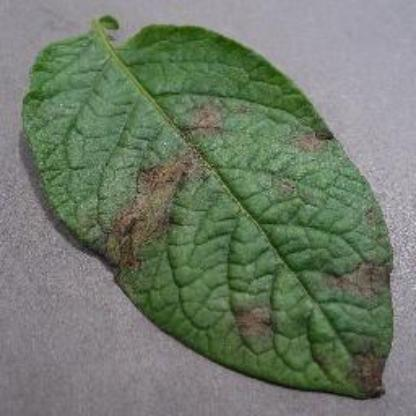Late-Blight: (19, 10, 394, 402)
